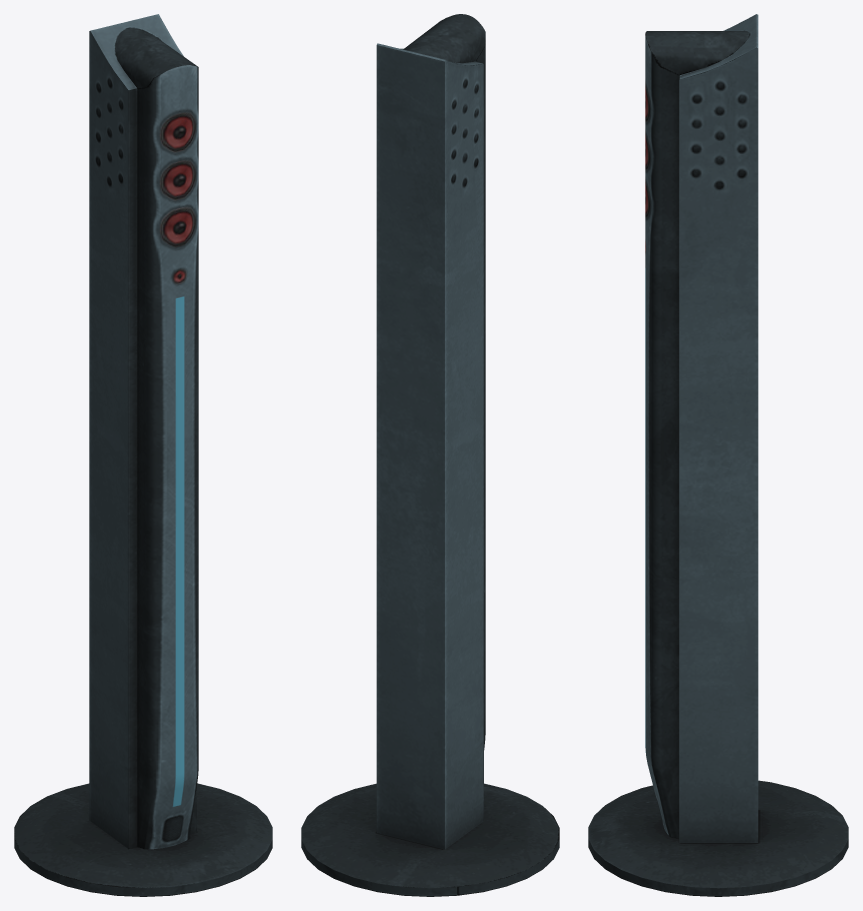
The model's file is Loudspeaker05.FBX.
The picture shows the model from 3 angles, left to right: view 1: azimuth 30°, elevation 25°; view 2: azimuth 150°, elevation 25°; view 3: azimuth 270°, elevation 25°; orthographic projection.
Visible parts, largest first — view 1: Loudspeaker05; view 2: Loudspeaker05; view 3: Loudspeaker05.
Part boxes in pixels (<box>): Loudspeaker05: <box>14,14,272,896</box>; Loudspeaker05: <box>301,14,559,896</box>; Loudspeaker05: <box>588,14,848,896</box>.
Bounding box in the file's own units: 39.54 × 135 × 39.31.
